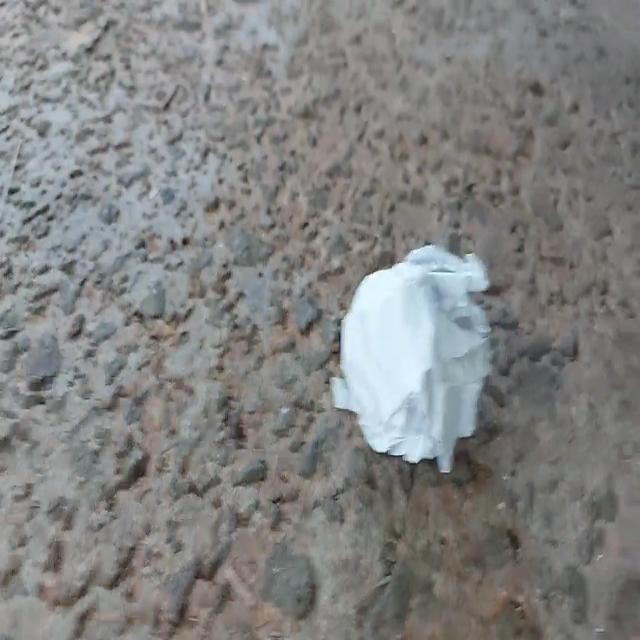Paper: (313, 230, 518, 483)
